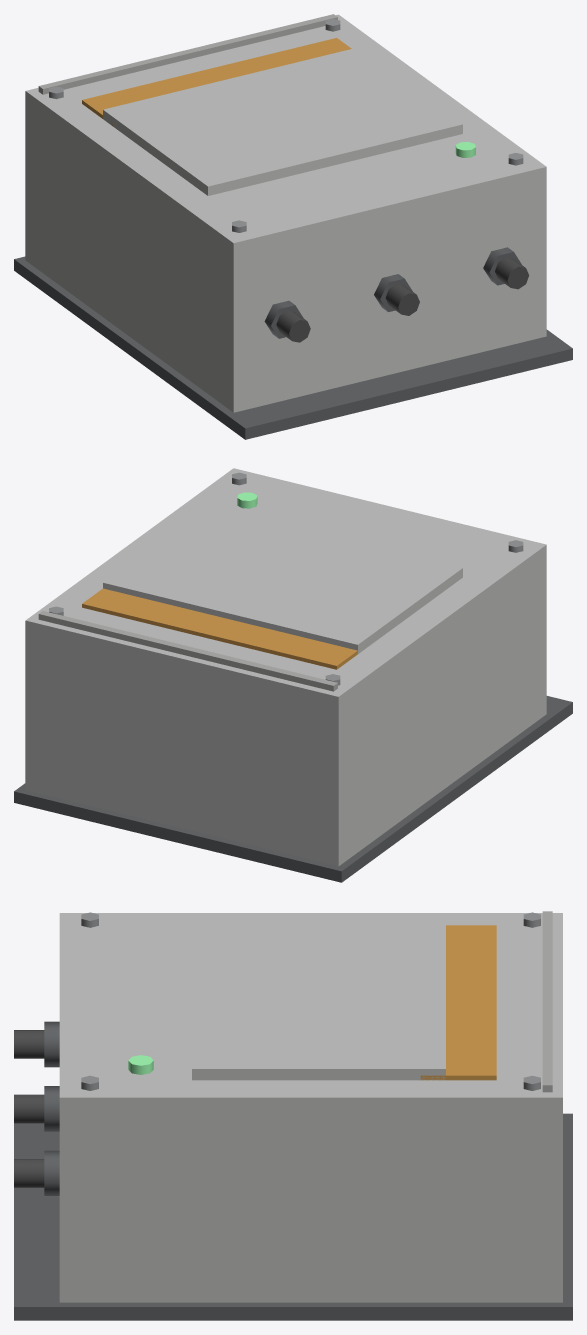
The model's file is lgLatch_steel.glb.
3 views of the same model, one above another, from view 1: azimuth 30°, elevation 25°; view 2: azimuth 150°, elevation 25°; view 3: azimuth 270°, elevation 25° (orthographic). The views are drawn at different scales.
Visible parts, largest first — view 1: lgLatch_steel; view 2: lgLatch_steel; view 3: lgLatch_steel.
Boxes of the visible parts, x1,y1,x2,y2 form: lgLatch_steel: (14,14,572,439); lgLatch_steel: (14,468,572,882); lgLatch_steel: (14,911,572,1320).
Size of the model in its own units: 0.18 by 0.1 by 0.22.
